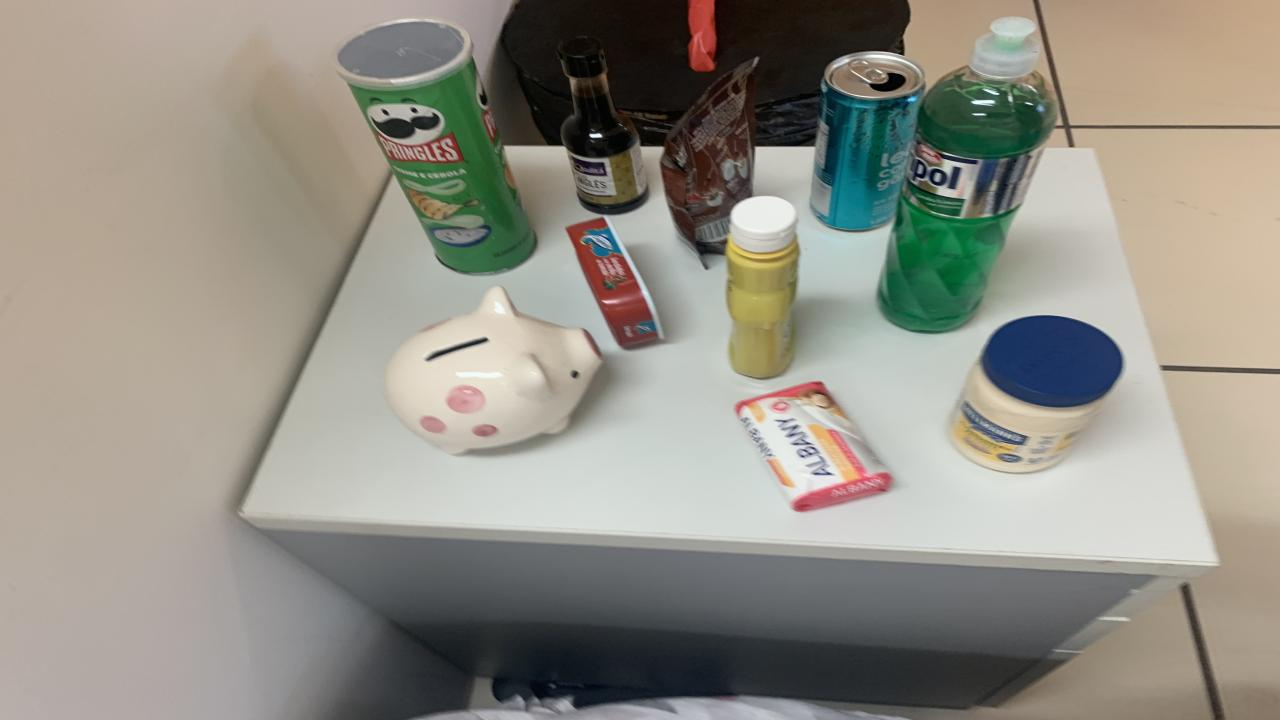Coffee-Pantry_Items: (660, 58, 758, 255)
Detergent-Cleanup_Items: (878, 17, 1058, 332)
English_Sauce-Pantry_Items: (558, 36, 648, 214)
Mayonnaise-Pantry_Items: (948, 315, 1122, 472)
Mustard-Pantry_Items: (725, 197, 800, 379)
Pig_Safe-Miscellaneous: (385, 287, 602, 454)
Pringles-Snacks: (335, 19, 535, 274)
Soap-Cleanup_Items: (735, 382, 892, 512)
Tea-Drinks: (810, 51, 925, 231)
Tuna_Can-Pantry_Items: (568, 218, 662, 347)
